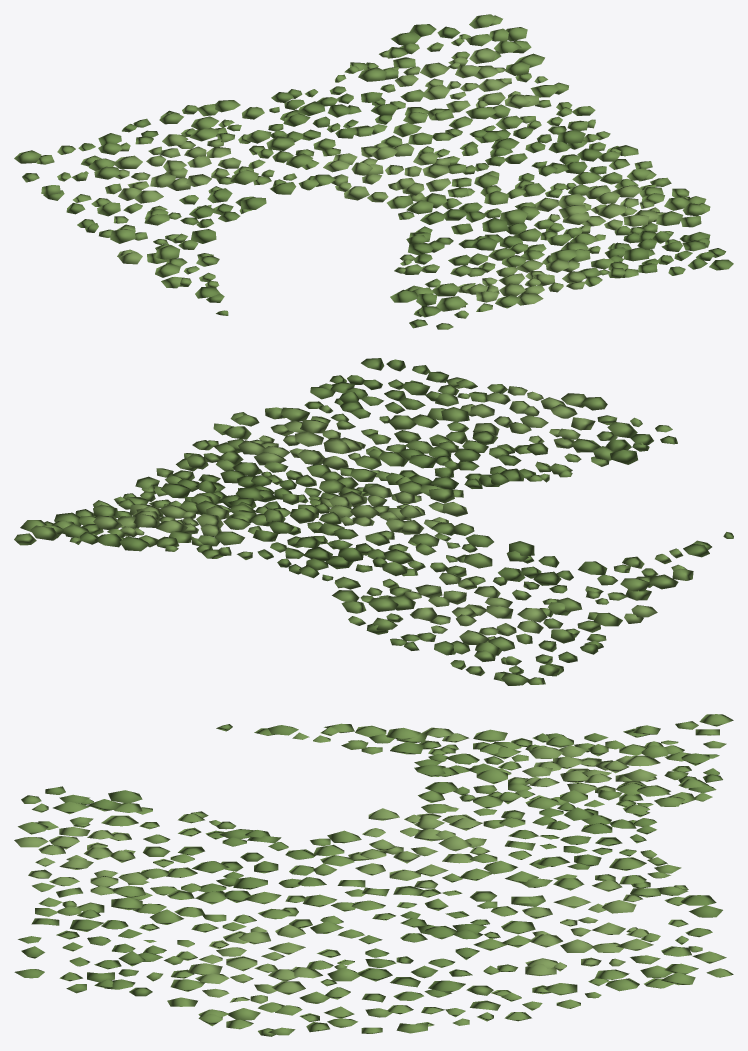
File: canopy-1-2-1.glb
3 renders of one model, top to bottom at view 1: azimuth 30°, elevation 25°; view 2: azimuth 150°, elevation 25°; view 3: azimuth 270°, elevation 25°, orthographic. The views are drawn at different scales.
Bounding box in the file's own units: 515 × 65 × 518.
Materials: 1 (1 with a texture image).
